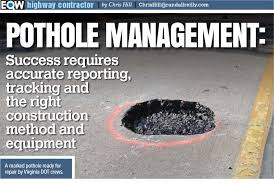pothole: (121, 98, 217, 138)
